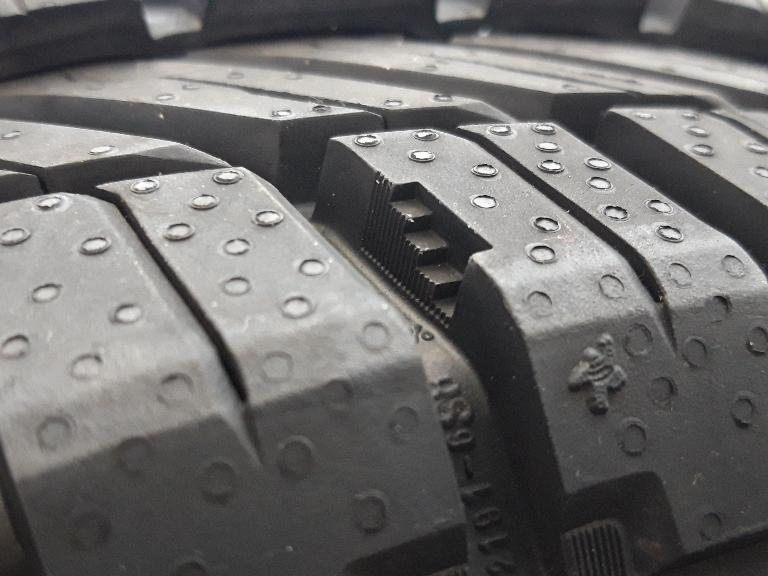temoin:100: (355, 163, 504, 340)
